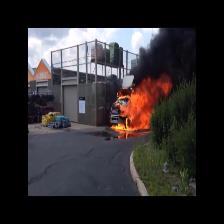fire: (127, 92, 156, 132), (141, 79, 170, 93)
smoke: (147, 30, 193, 77), (135, 61, 146, 79)
